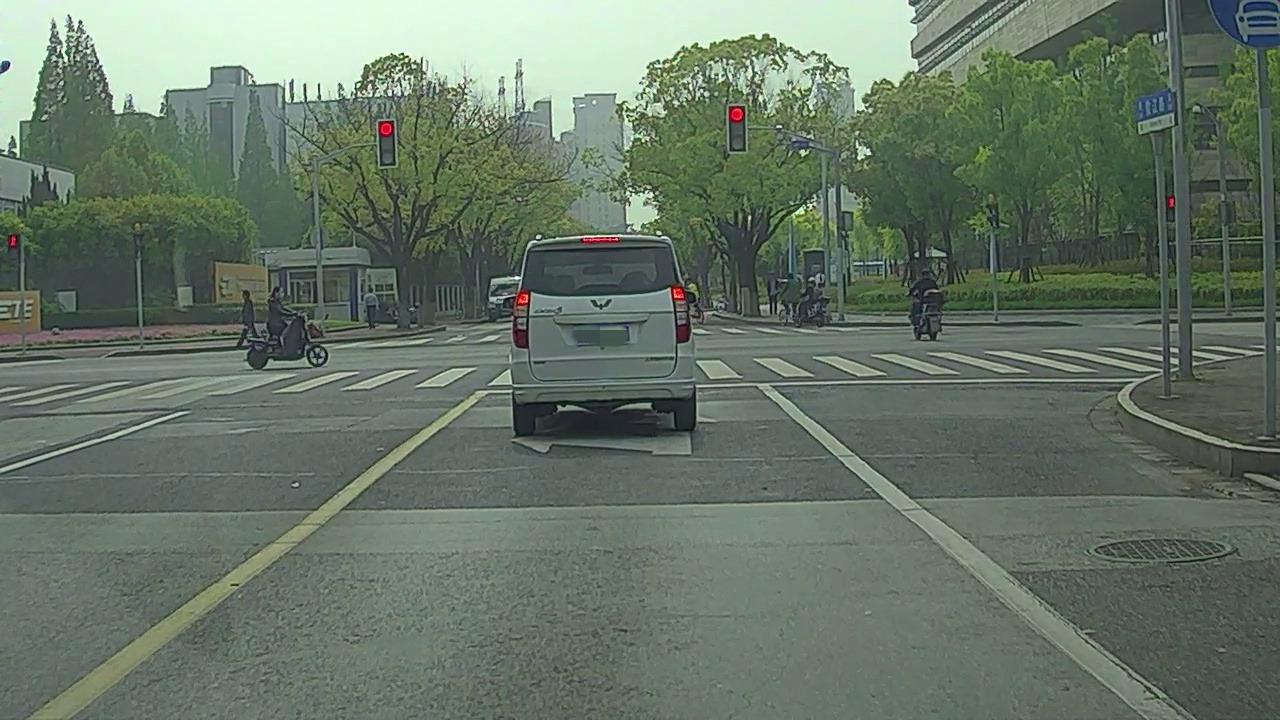traffic_light: (376, 121, 396, 164), (728, 105, 746, 152)
